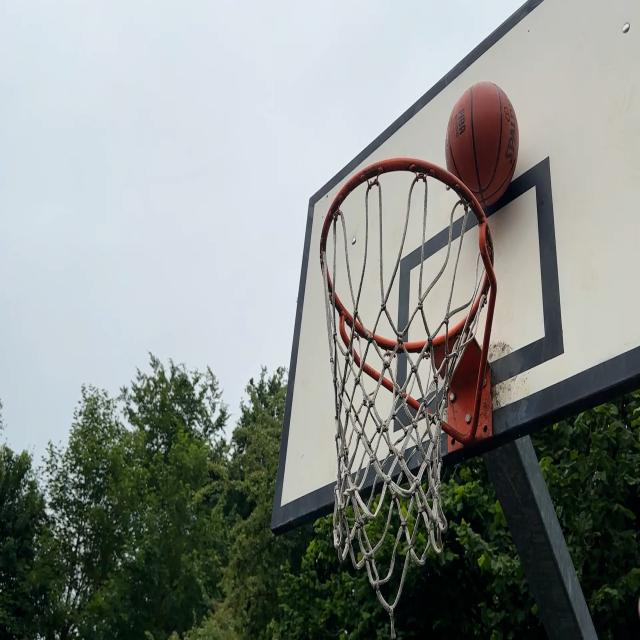rebound_hit: (446, 82, 521, 214)
